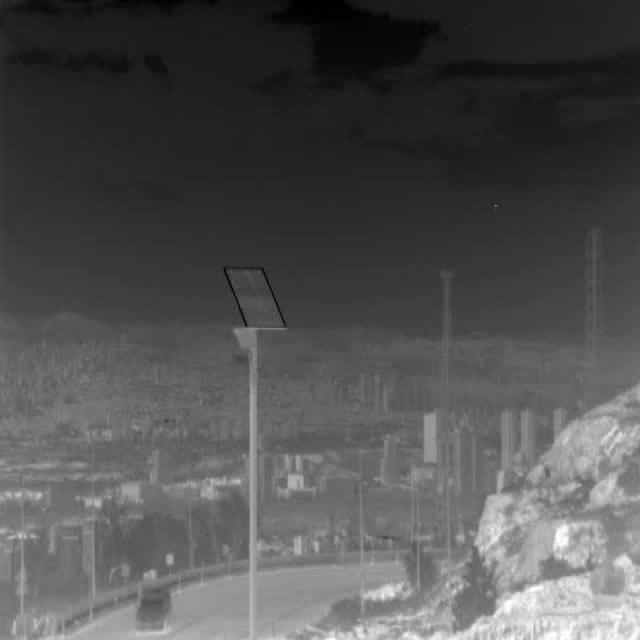Car: (134, 590, 172, 634)
